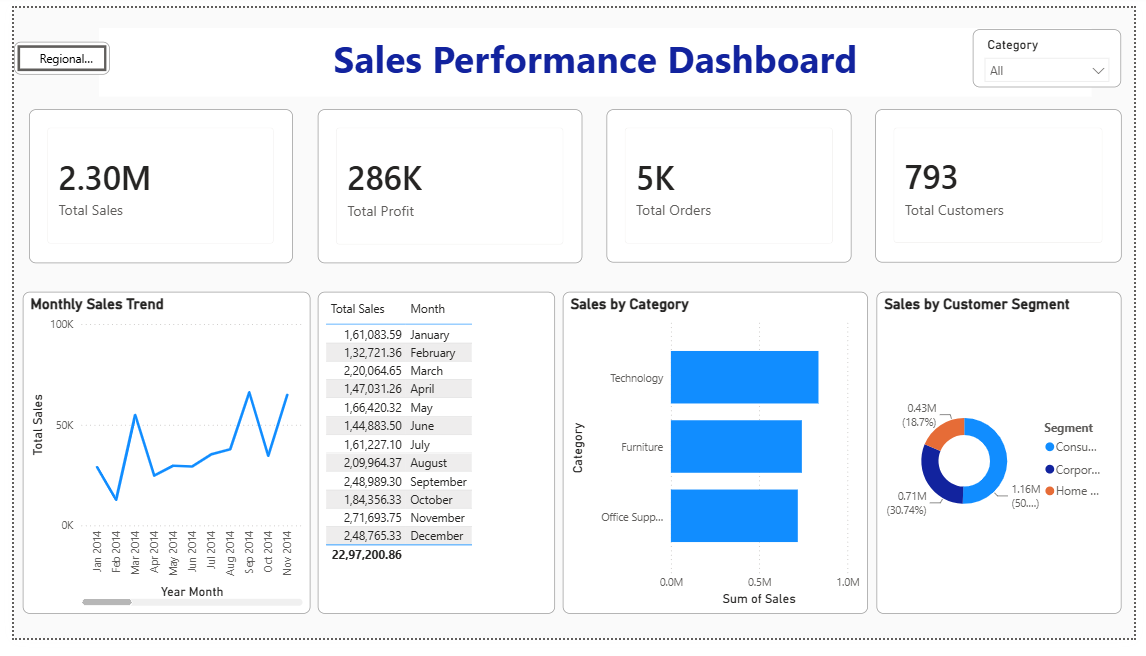

This screenshot's page, from the dashboard's own definition file:
{"tool":"powerbi","page":{"name":"Overview","canvas":[1280,720],"ordinal":0},"visuals":[{"type":"cardVisual","fields":{"Data":["Orders.Total Orders"]},"box":[676.6,116.2,280,175],"z":0},{"type":"cardVisual","fields":{"Data":["Orders.Total Customers"]},"box":[984.4,116.2,281.3,174.9],"z":1000},{"type":"cardVisual","fields":{"Data":["Orders.Total Profit"]},"box":[347.2,116.2,302,176.1],"z":2000},{"type":"lineChart","title":"Monthly Sales Trend","fields":{"Y":["Orders.Total Sales"],"Category":["Date Table.Year Month"]},"box":[9.8,324.1,328.9,368.1],"z":3000},{"type":"tableEx","fields":{"Values":["Orders.Total Sales","Date Table.Month"]},"box":[347.3,324.1,271.5,368.1],"z":4000},{"type":"cardVisual","fields":{"Data":["Orders.Total Sales"]},"box":[17.8,116.2,301.9,175.6],"z":5000},{"type":"clusteredBarChart","title":"Sales by Category","fields":{"Y":["Sum(Orders.Sales)"],"Category":["Orders.Category"]},"box":[627.3,324.1,348.5,368.1],"z":6000},{"type":"donutChart","title":"Sales by Customer Segment","fields":{"Category":["Orders.Segment"],"Y":["Sum(Orders.Sales)"]},"box":[985.3,323.8,279.9,367.8],"z":7000},{"type":"textbox","box":[96.6,23.2,1134.8,78.3],"z":8000},{"type":"slicer","fields":{"Values":["Orders.Category"]},"box":[1096.3,23.7,169.7,66.8],"z":9000},{"type":"actionButton","box":[0,39,109.9,37.6],"z":10000}]}

Visuals, with their boxes in screenshot pixels (x1, y1, x2, y2), scaled from the page's 1280x720 canvas onto the 1146x656 screenshot:
cardVisual - Orders.Total Orders: l=606, t=106, r=856, b=265
cardVisual - Orders.Total Customers: l=881, t=106, r=1133, b=265
cardVisual - Orders.Total Profit: l=311, t=106, r=581, b=266
"Monthly Sales Trend" lineChart: l=9, t=295, r=303, b=631
tableEx - Orders.Total Sales x Date Table.Month: l=311, t=295, r=554, b=631
cardVisual - Orders.Total Sales: l=16, t=106, r=286, b=266
"Sales by Category" clusteredBarChart: l=562, t=295, r=874, b=631
"Sales by Customer Segment" donutChart: l=882, t=295, r=1133, b=630
textbox: l=86, t=21, r=1102, b=92
slicer - Orders.Category: l=982, t=22, r=1133, b=82
actionButton: l=0, t=36, r=98, b=70
